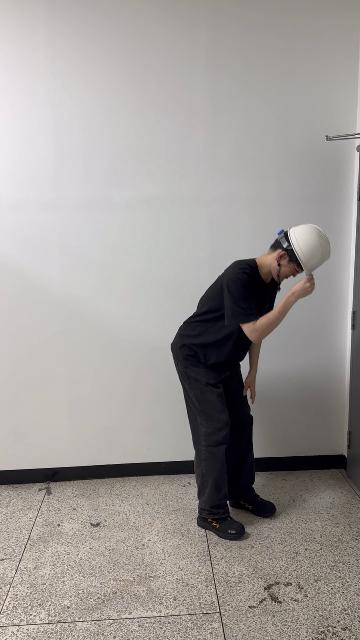helmet_worn: (286, 223, 331, 276)
shoe_worn: (197, 514, 245, 540), (229, 493, 275, 518)
vest_not_worn: (176, 257, 277, 389)
